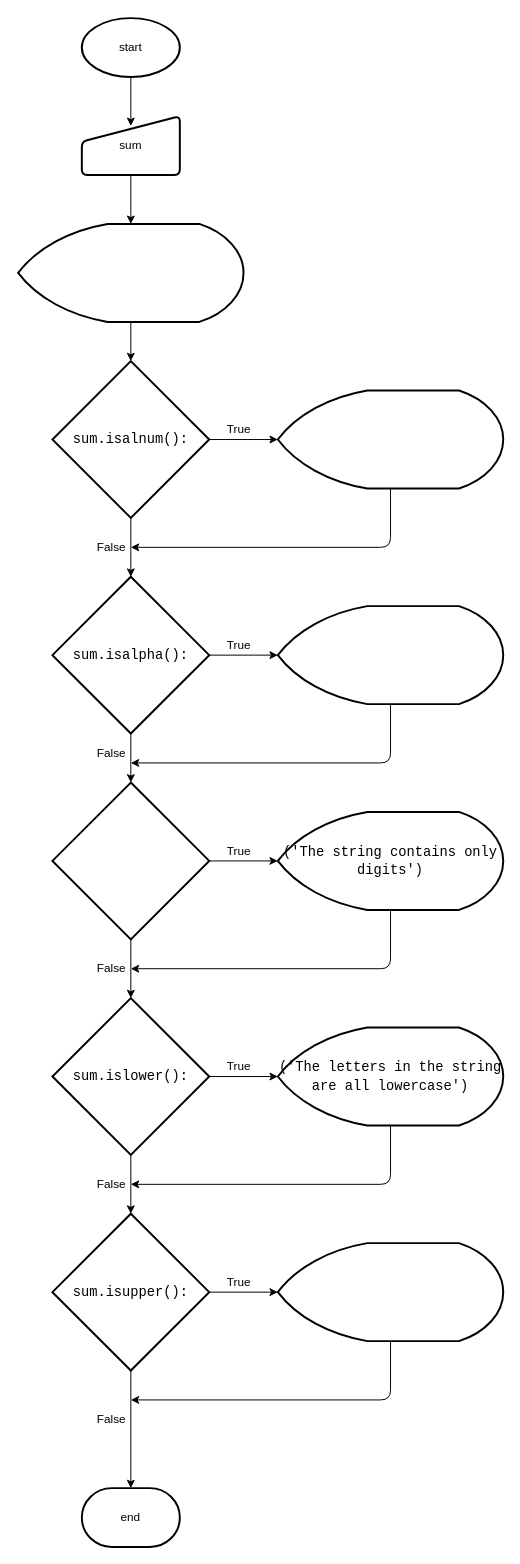
Image size: 520x1564. Some labels were removed from this diagram. The box of each missing label's shape, as (x1, y1, x2, y2) in pixels:
'The string is alphanumberic.': (276, 389, 504, 489)
'This is what I found about hat string:': (17, 222, 244, 322)
( 'The letters in the string are all uppercase' ): (276, 1242, 504, 1342)
( 'The string contain only alphabetic characters.' ): (276, 605, 504, 705)
sum.isnumeric():: (51, 781, 210, 940)
